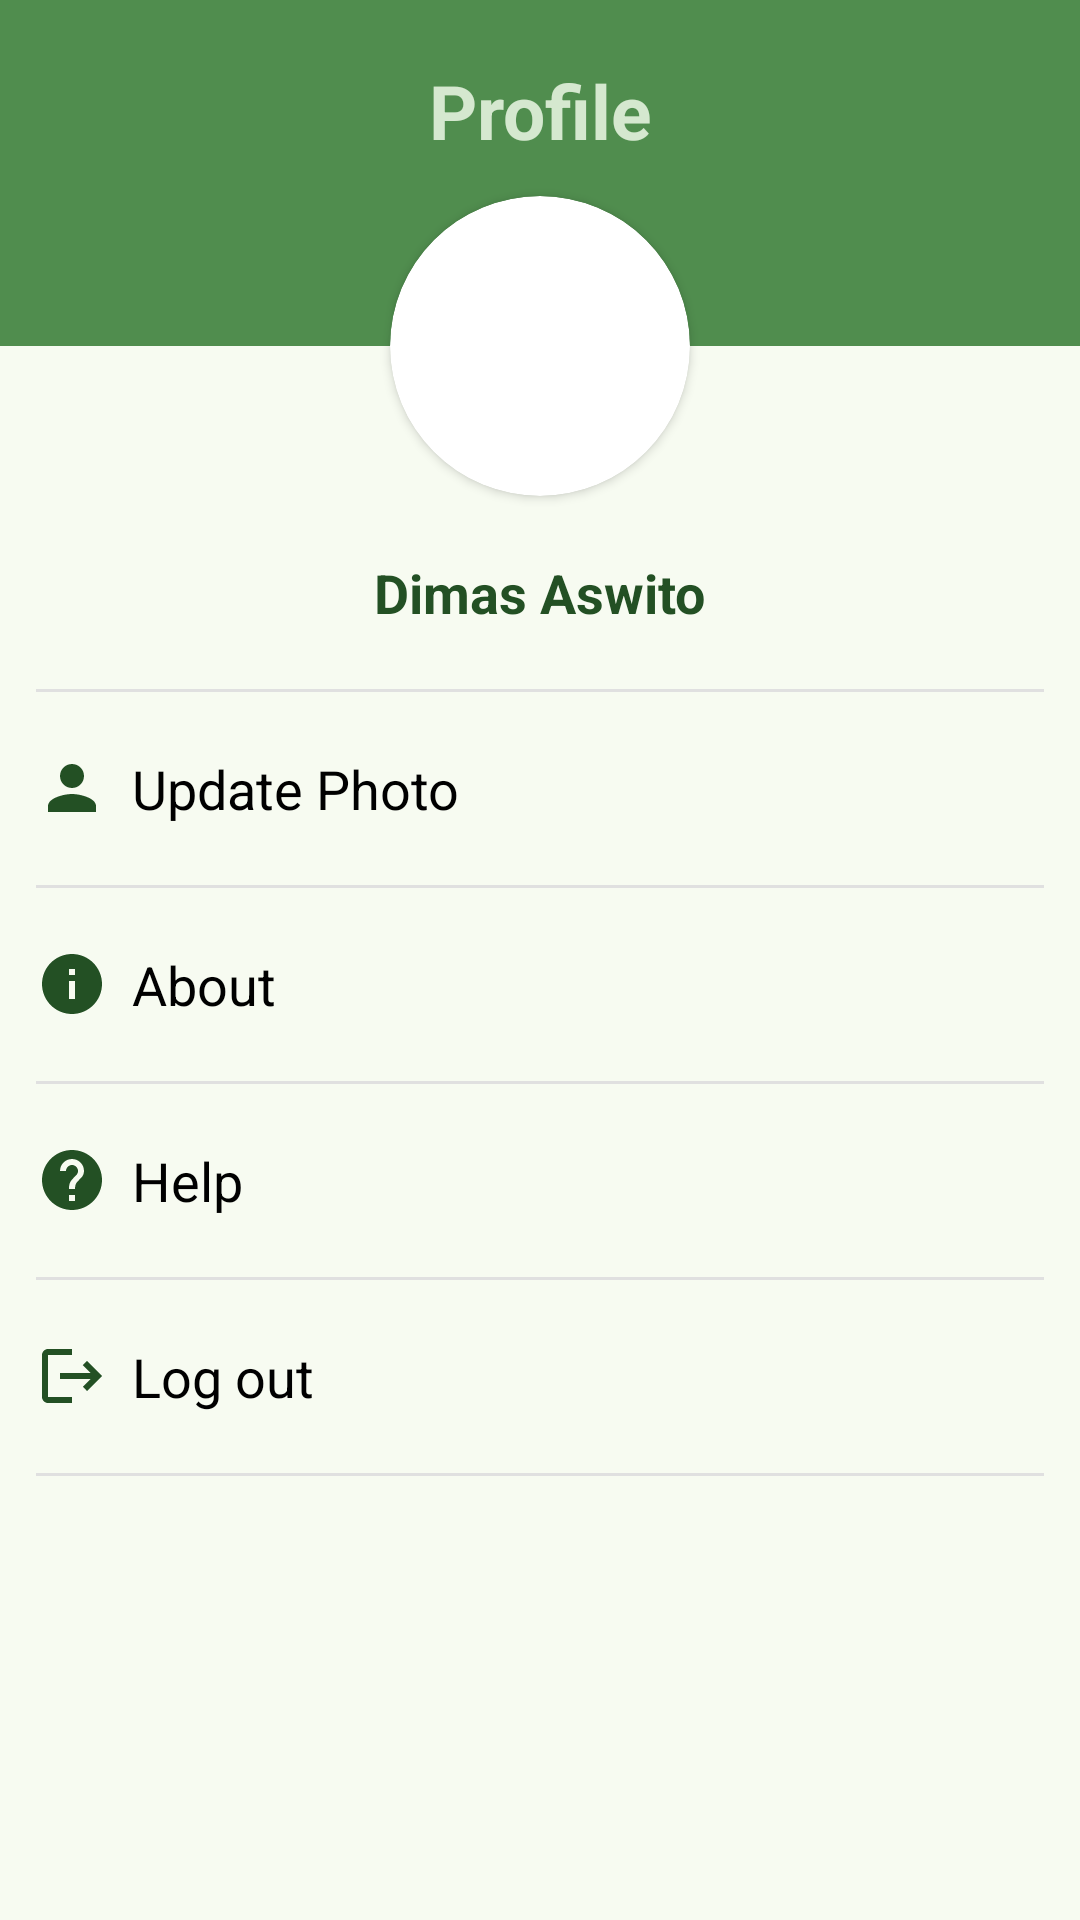

Named icons in this screenshot (1080x1920) and their bounding boxes, bbox=[x1, y1, x2, y2]:
info: bbox=[42, 954, 102, 1014]
person: bbox=[48, 764, 96, 812]
